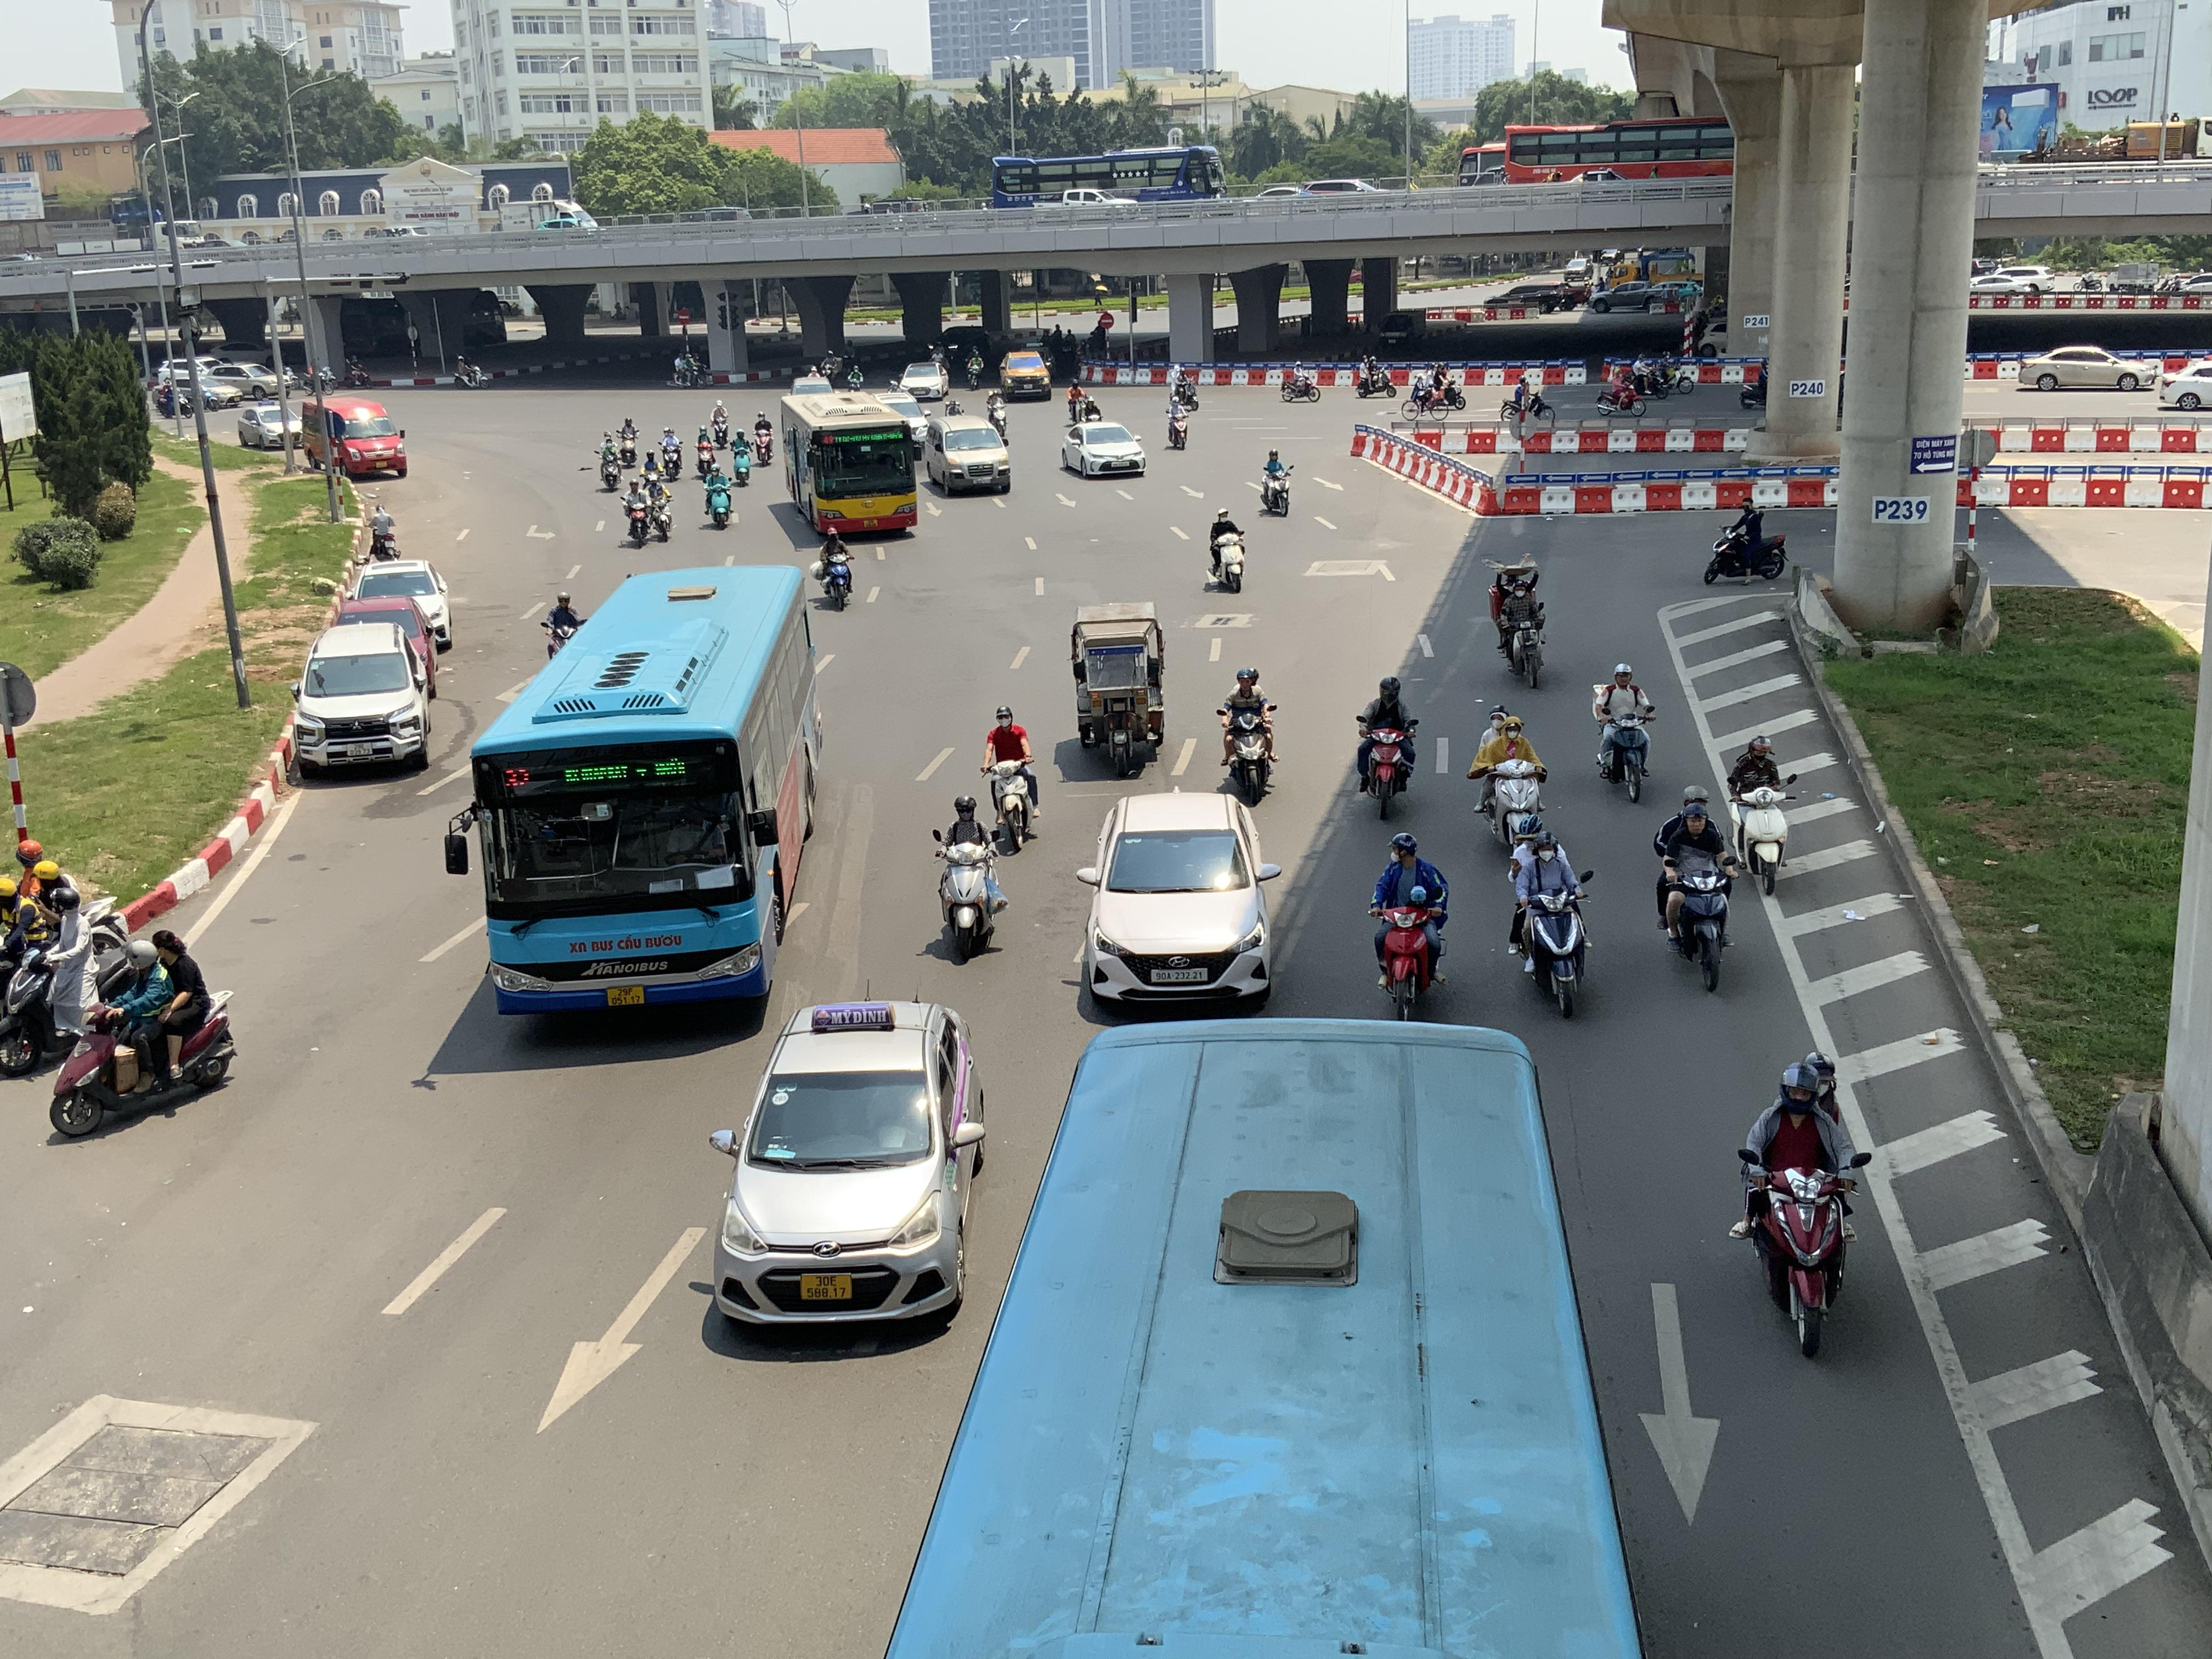BSD: (1151, 969, 1207, 983)
BSV: (801, 1274, 852, 1300), (606, 985, 644, 1006), (347, 742, 373, 756)
bus: (449, 561, 826, 1021), (782, 389, 923, 535), (989, 145, 1224, 202)
car: (705, 999, 989, 1340), (1075, 789, 1285, 1021), (287, 617, 437, 779), (331, 556, 455, 650), (296, 396, 408, 477), (2015, 343, 2161, 390), (923, 420, 1012, 495), (1061, 420, 1146, 477), (237, 399, 296, 448), (897, 361, 948, 401)
motorbike: (45, 925, 237, 1140), (1735, 1054, 1867, 1363), (0, 871, 85, 1080), (1510, 817, 1594, 1021), (1655, 788, 1735, 993), (1371, 831, 1447, 1021), (932, 793, 1007, 962), (1726, 732, 1797, 896), (1470, 706, 1548, 854), (1355, 674, 1418, 821), (981, 704, 1040, 854), (1594, 662, 1655, 803), (1216, 666, 1277, 805), (1489, 558, 1548, 688), (1702, 500, 1789, 586), (813, 523, 853, 610), (1205, 507, 1245, 592), (620, 467, 657, 547), (1258, 446, 1292, 518), (1597, 364, 1644, 416), (702, 455, 735, 528), (366, 498, 399, 563), (1352, 354, 1397, 397), (1280, 359, 1322, 403), (693, 415, 721, 474), (1064, 380, 1101, 423), (1407, 366, 1442, 411), (658, 422, 685, 481), (1163, 397, 1191, 450), (730, 434, 754, 488), (751, 410, 773, 467)
truck: (1069, 599, 1167, 779)
